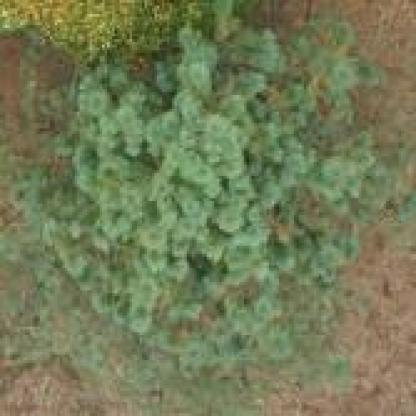Coniferous Tree: (31, 14, 390, 338)
